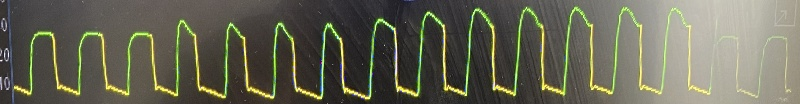normal_pressure: (14, 0, 792, 104)
